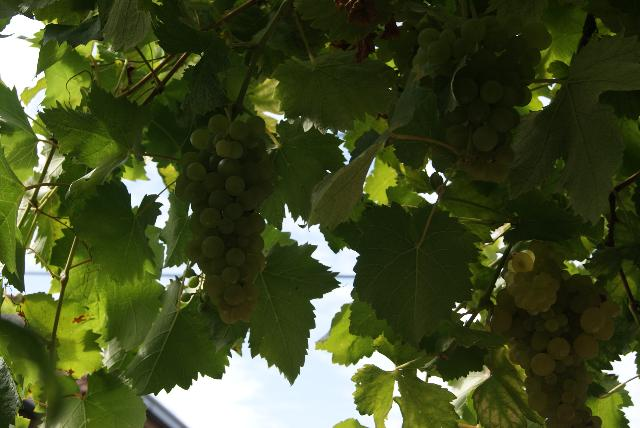grapes: (412, 14, 551, 181), (175, 114, 278, 325), (491, 290, 620, 426), (505, 241, 559, 315)
